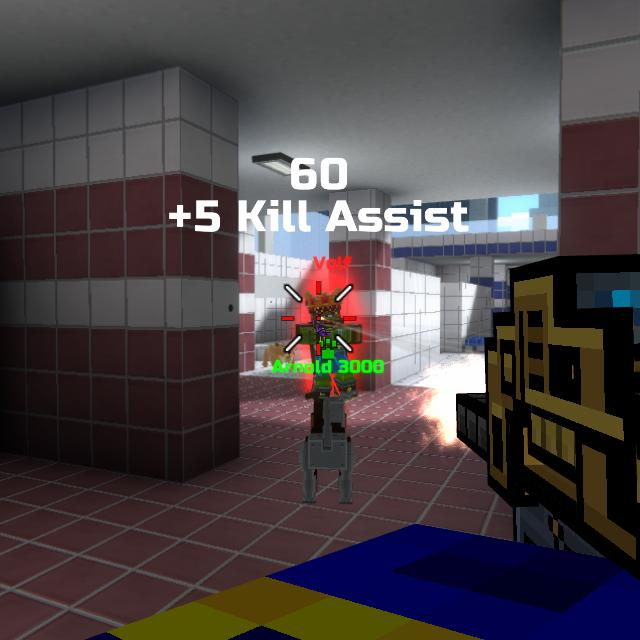Enemy: (295, 295, 363, 398)
